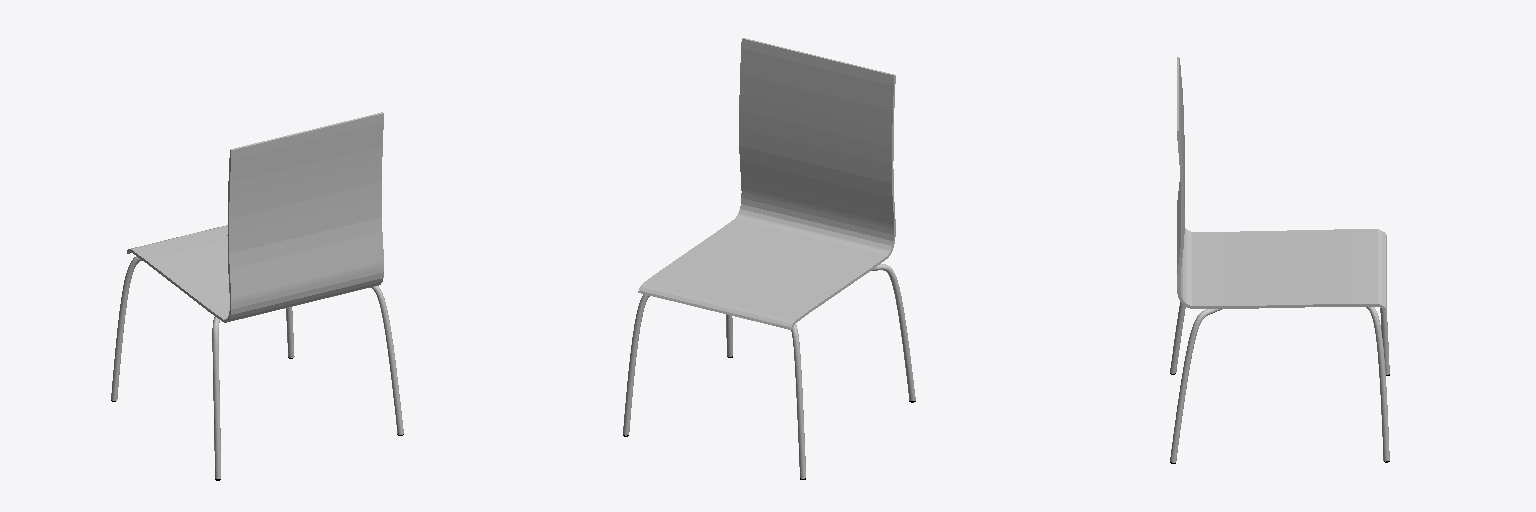
3 views of the same model, side by side, from view 1: azimuth 30°, elevation 25°; view 2: azimuth 150°, elevation 25°; view 3: azimuth 270°, elevation 25° (orthographic).
Parts seen in each view (by area): view 1: Plane, Pieds; view 2: Plane, Pieds; view 3: Plane, Pieds.
Boxes of the visible parts, <box> form: Plane: <box>127,112,383,322</box>; Pieds: <box>111,256,403,478</box>; Plane: <box>638,38,895,329</box>; Pieds: <box>623,264,915,478</box>; Plane: <box>1177,57,1386,310</box>; Pieds: <box>1170,302,1389,462</box>.
Size of the model in its own units: 2.46 by 4.05 by 2.49.
3 materials, 1 textured.